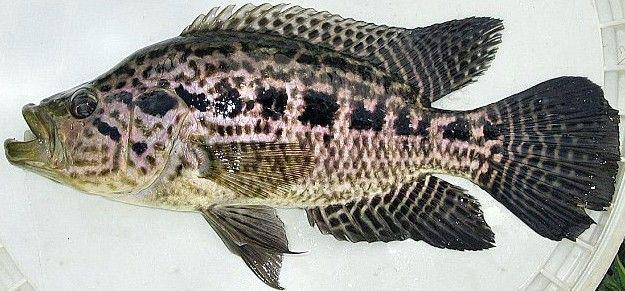Jaguar Gapote: (8, 2, 620, 287)
